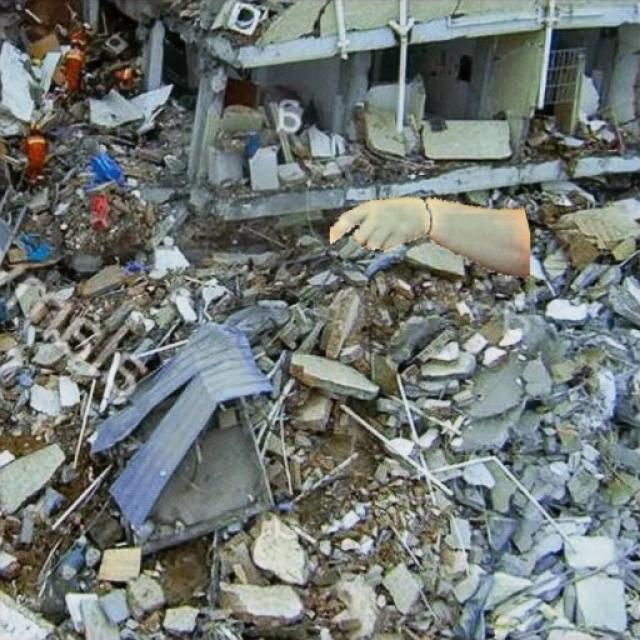Person in Rubble: (330, 196, 529, 276)
